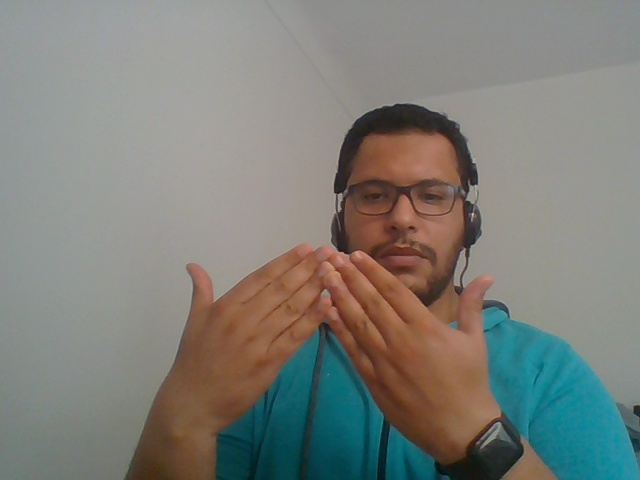thanks: (99, 226, 530, 480)
